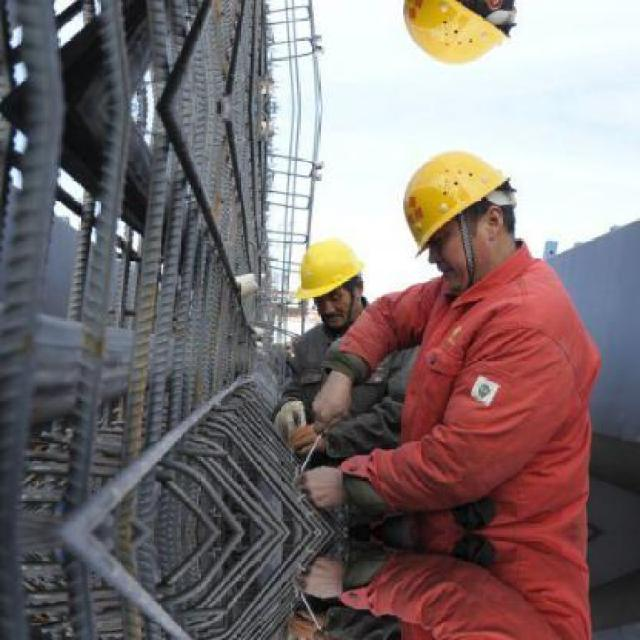helmet: (384, 127, 533, 288), (383, 0, 534, 86), (295, 222, 376, 328)
